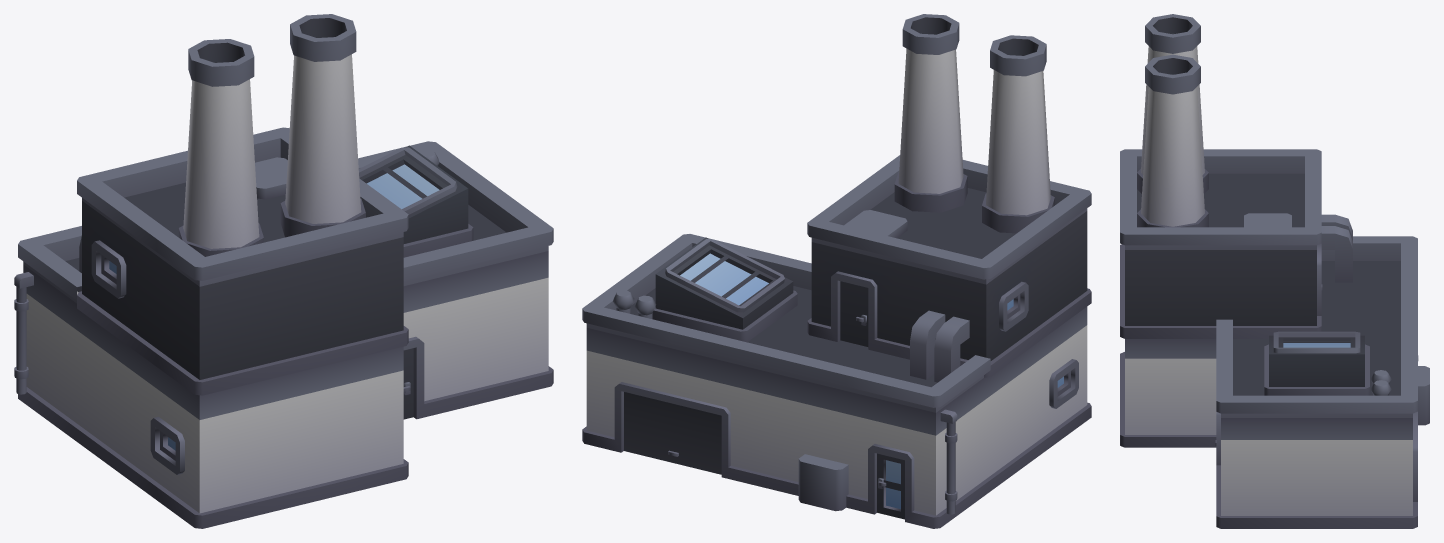
The model's file is fabrica.glb.
3 views of the same model, side by side, from view 1: azimuth 30°, elevation 25°; view 2: azimuth 150°, elevation 25°; view 3: azimuth 270°, elevation 25° (orthographic). The views are drawn at different scales.
Visible parts, largest first — view 1: modelo; view 2: modelo; view 3: modelo.
Part boxes in pixels (x1,y1,x2,y2): modelo: [14, 14, 553, 528]; modelo: [582, 14, 1091, 528]; modelo: [1120, 14, 1429, 528].
Size of the model in its own units: 3.68 by 3.6 by 2.82.
